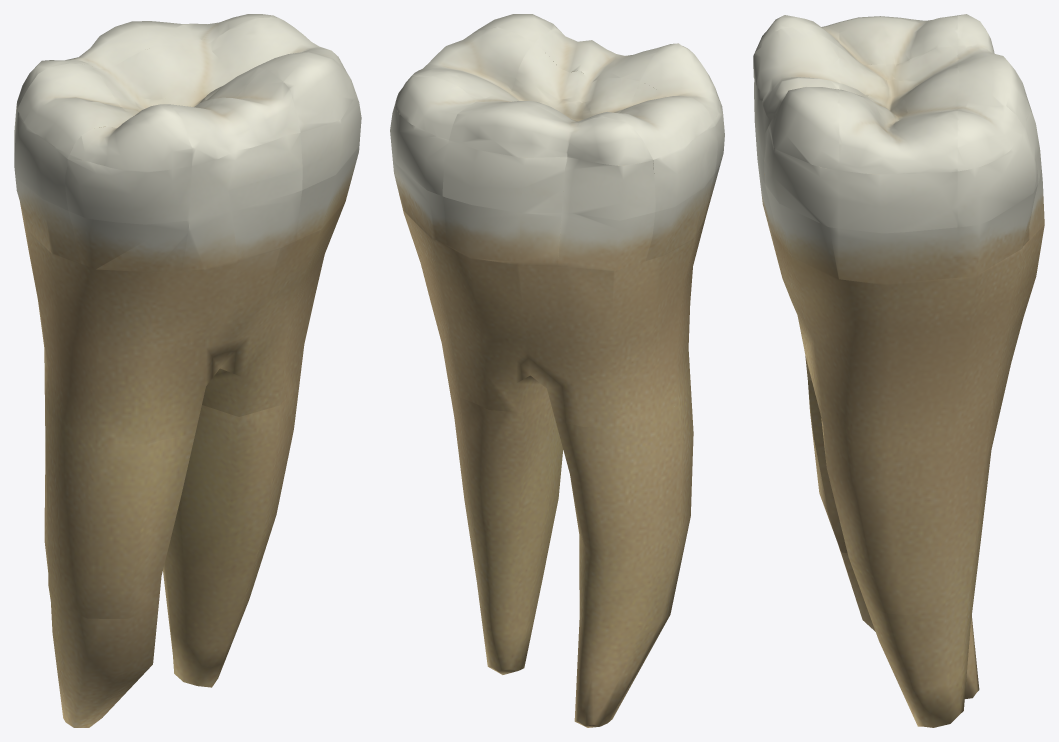
File: Left_Lower_First_Molar.glb
The picture shows the model from 3 angles, left to right: view 1: azimuth 30°, elevation 25°; view 2: azimuth 150°, elevation 25°; view 3: azimuth 270°, elevation 25°; orthographic projection. The views are drawn at different scales.
Visible parts, largest first — view 1: Human_Teeth_Lower_First_Molar.029; view 2: Human_Teeth_Lower_First_Molar.029; view 3: Human_Teeth_Lower_First_Molar.029.
Boxes of the visible parts, x1,y1,x2,y2 form: Human_Teeth_Lower_First_Molar.029: (14, 14, 361, 727); Human_Teeth_Lower_First_Molar.029: (390, 14, 724, 727); Human_Teeth_Lower_First_Molar.029: (753, 14, 1044, 727).
Size of the model in its own units: 1.41 by 2.96 by 1.15.
30 materials, 30 textured.
